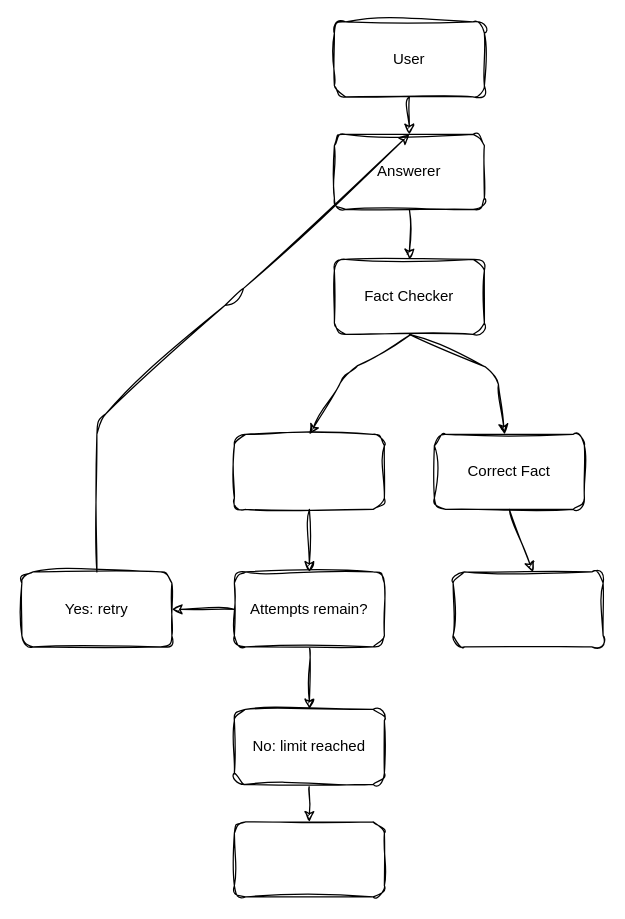
This 625x919 diagram has some shape labels left out. The centre of each missing label's shape, as x and y in pixels:
"Gives To User" goes at (x=527, y=609).
"Gives Up" goes at (x=308, y=859).
"Incorrect Fact" goes at (x=308, y=471).
